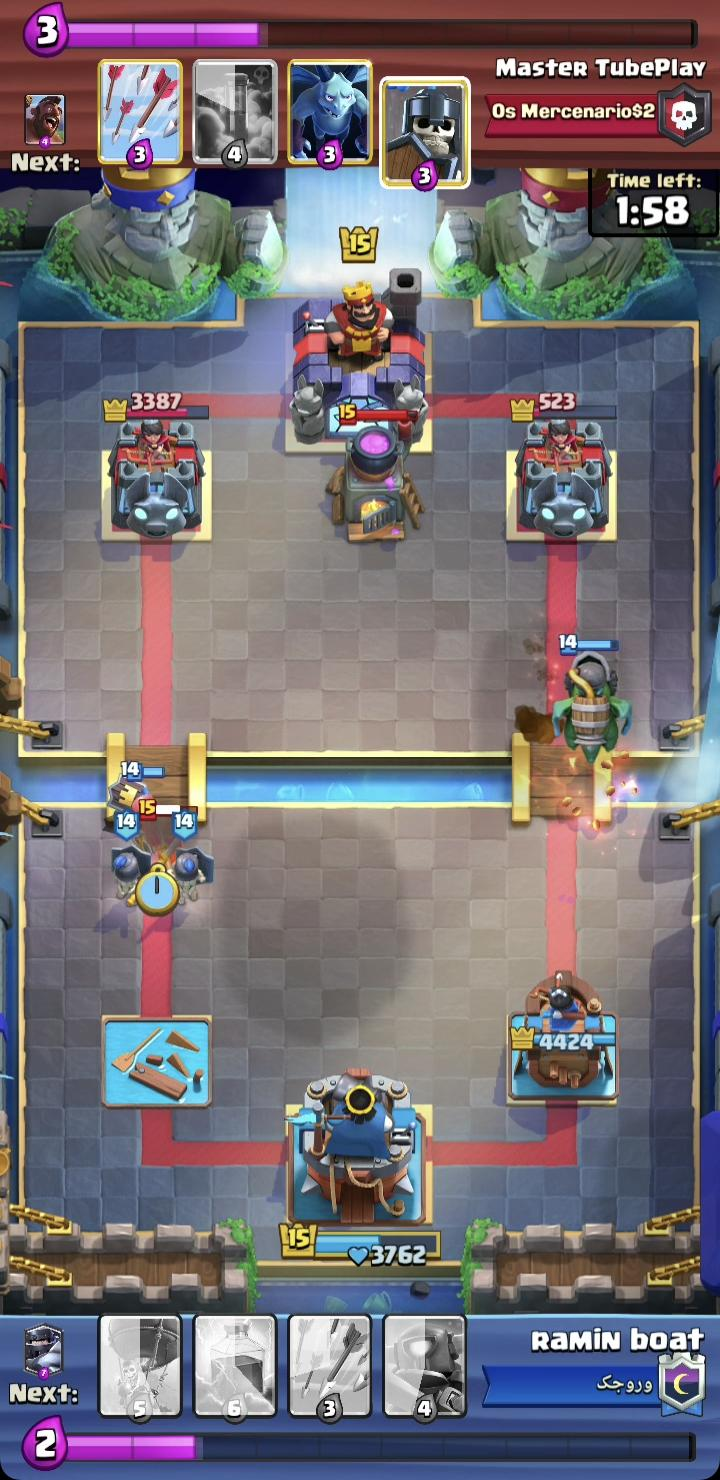ally_guard: (162, 808, 216, 907), (119, 760, 167, 853), (108, 807, 150, 910)
ally_infernodragon: (550, 634, 635, 765)
enemy_furnace: (325, 404, 428, 545)
enemy_musketeer: (134, 796, 192, 874)
